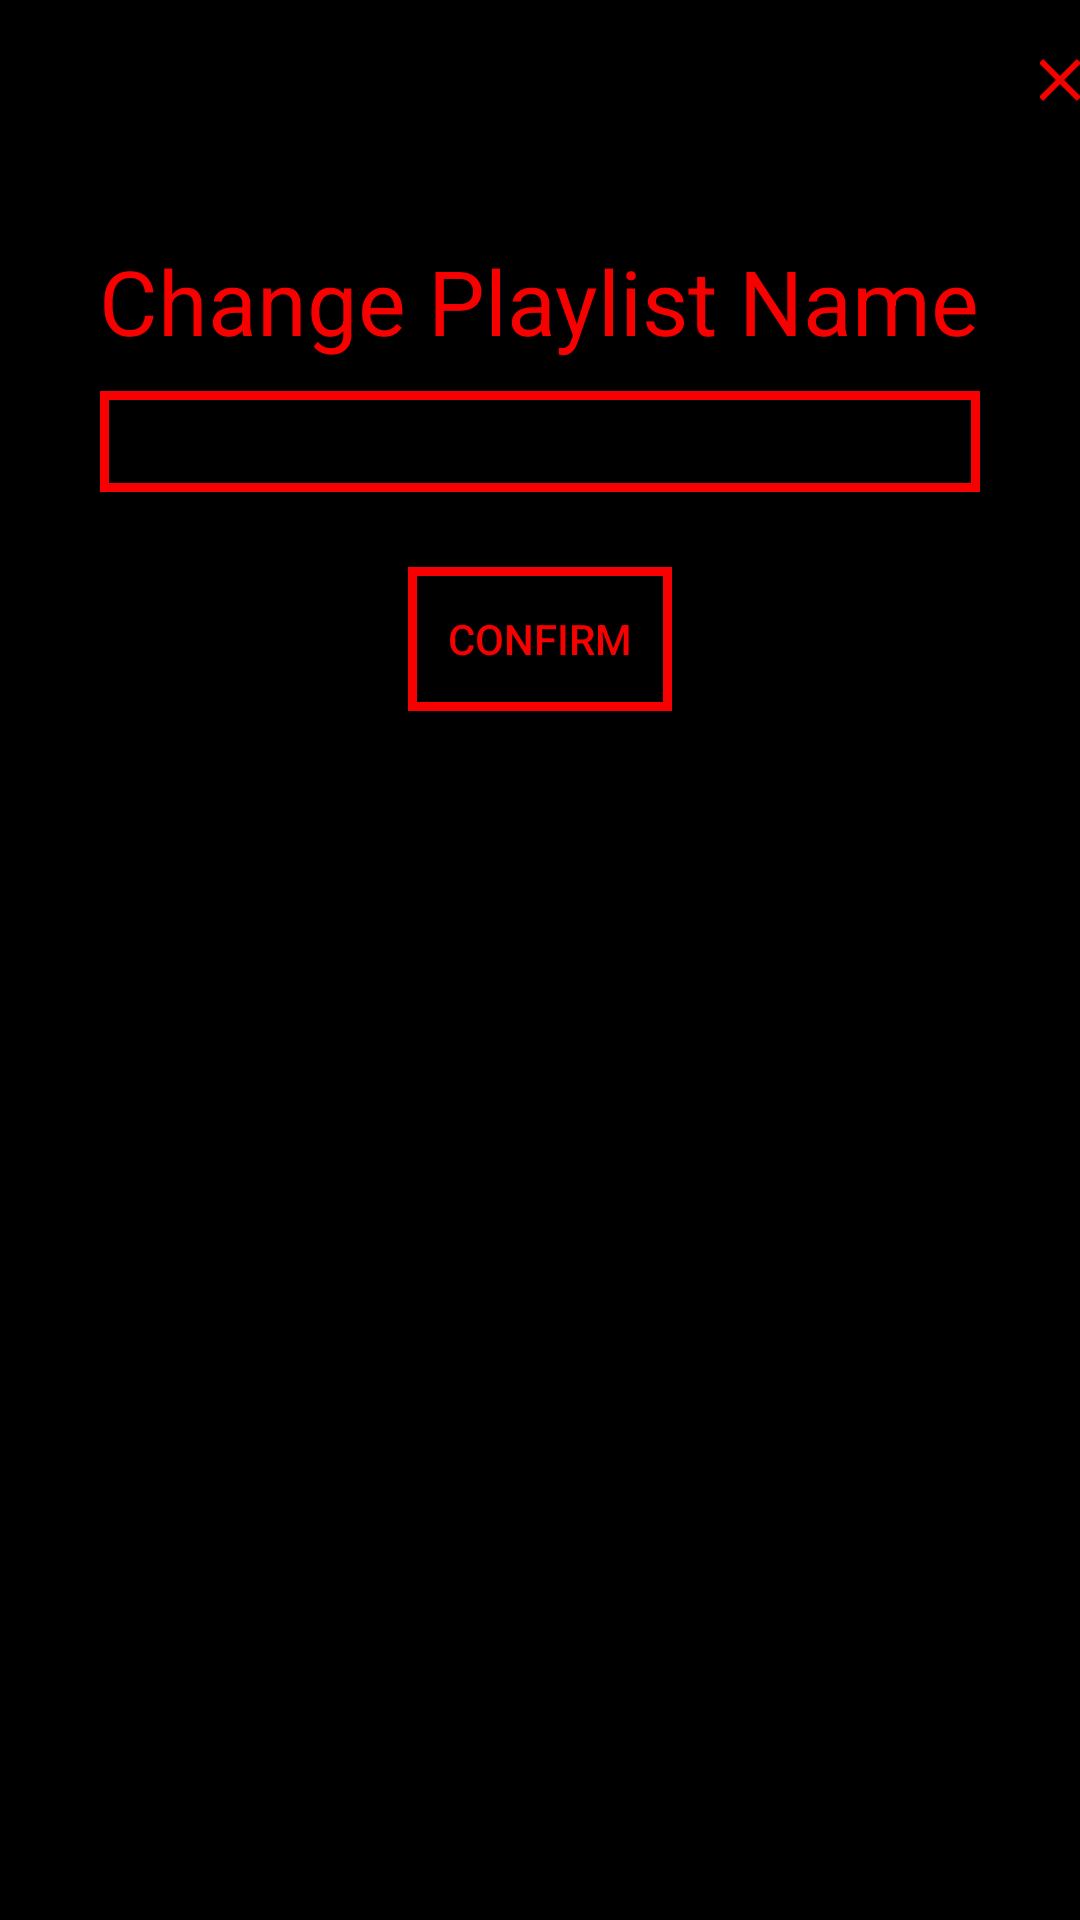

Screen size 1080*1920. Icon name, then its box in pixels as (x1, y1, x2, y2):
close: (1040, 59, 1080, 101)
